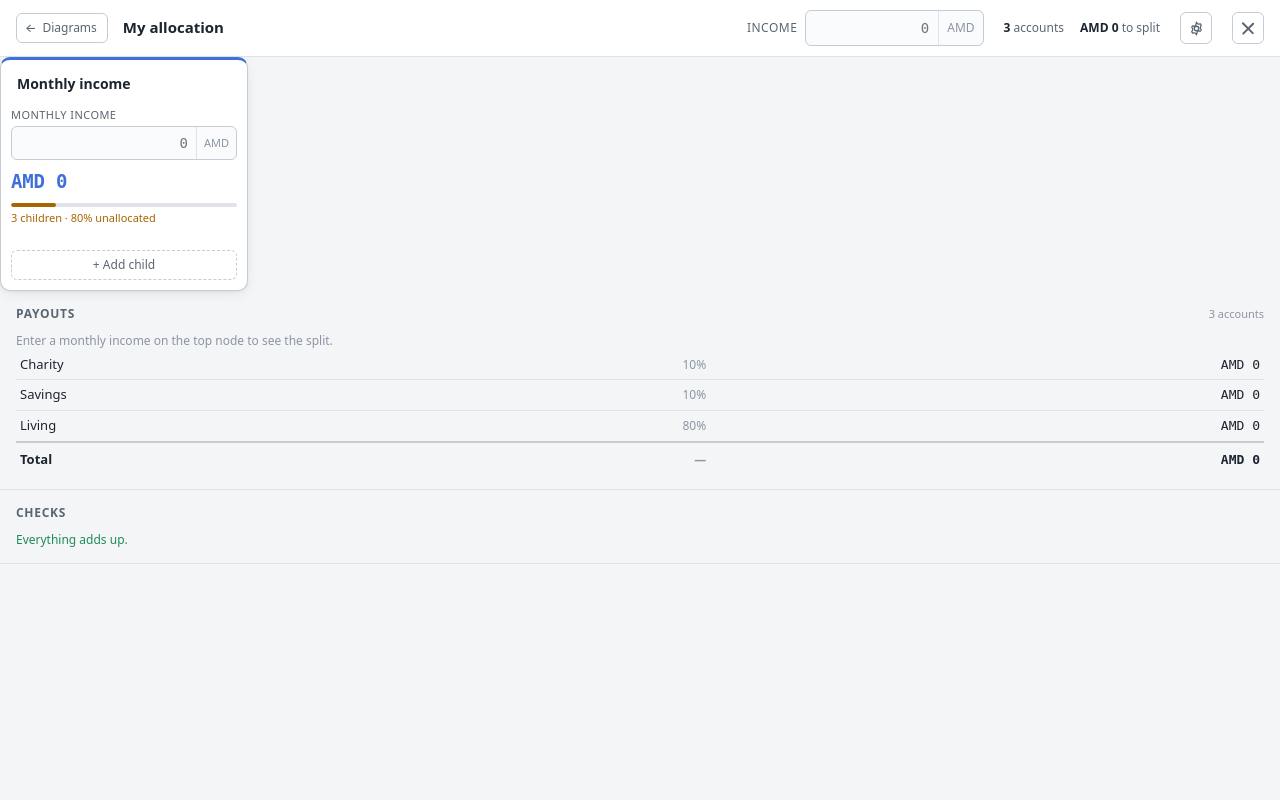
Scenario: the starter tree › splits a typed income 10 / 10 / 80
In the field named "Monthly income": point(872, 28) [806,11,938,45], type "1000000"
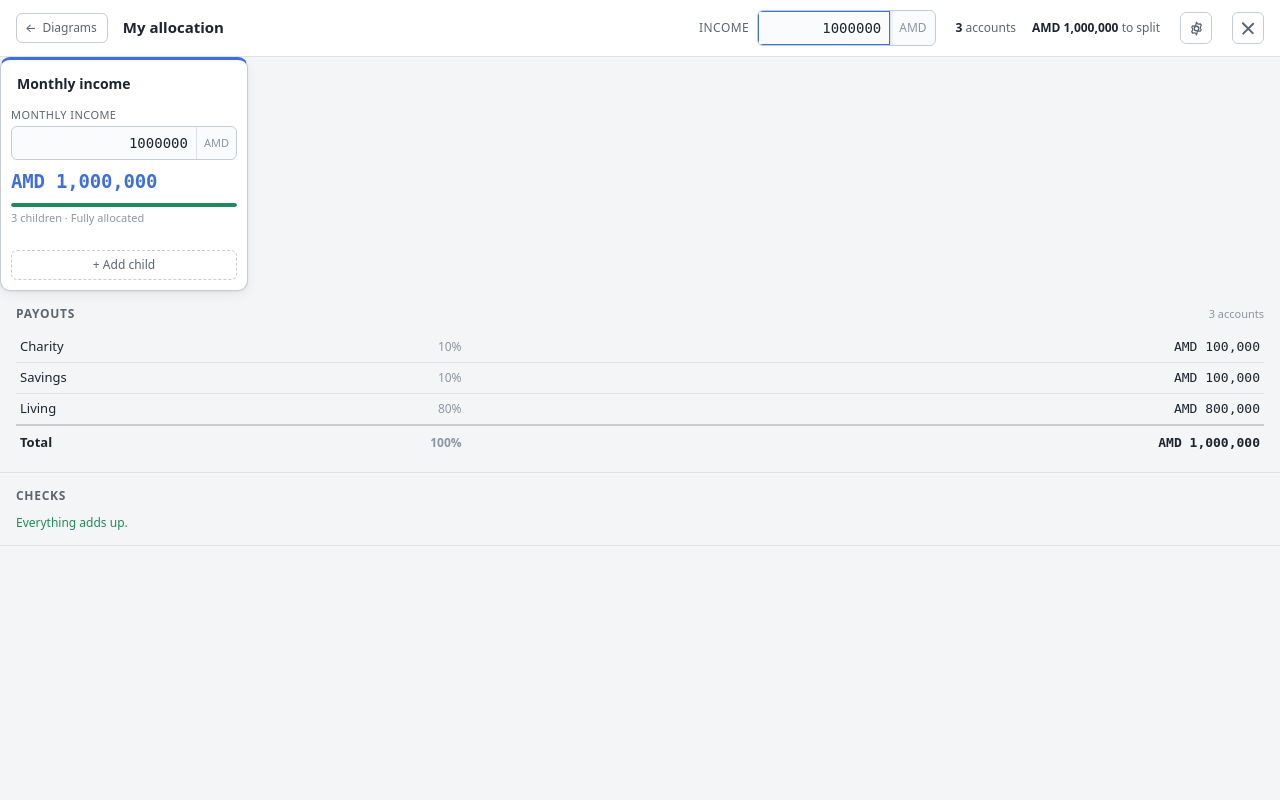
Expected: the text "AMD 100,000" in the row of "Charity" is shown, [1174,339,1260,354]
Expected: the text "AMD 100,000" in the row of "Savings" is shown, [1174,370,1260,385]
Expected: the text "AMD 800,000" is shown, [466,393,1264,425]
